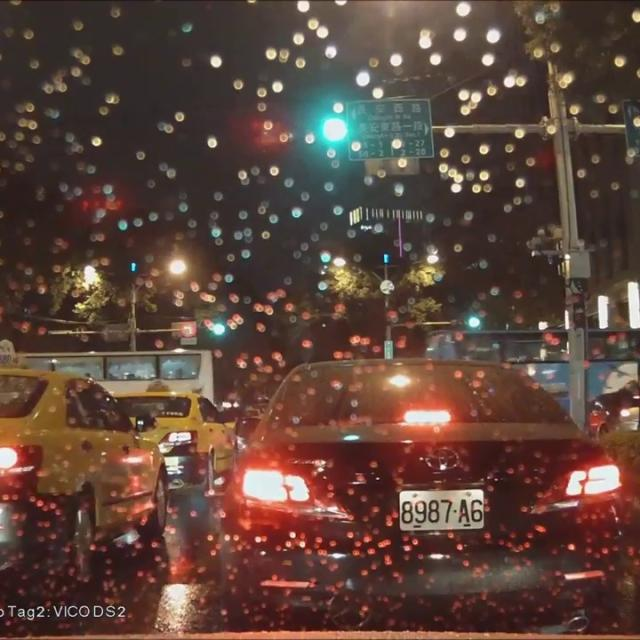Car: (215, 348, 625, 636), (0, 357, 169, 614), (104, 373, 242, 498), (583, 385, 639, 443)
